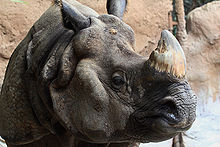rhinoceros: (1, 1, 195, 144)
